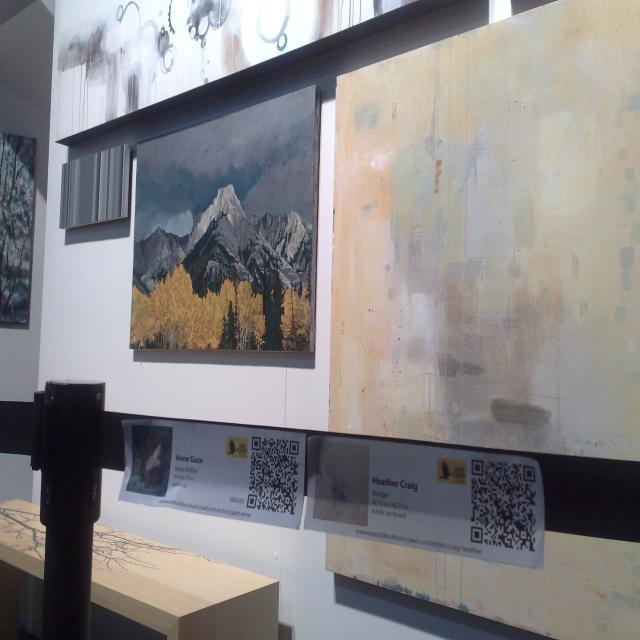qr-code: (470, 459, 536, 552), (246, 436, 299, 515)
